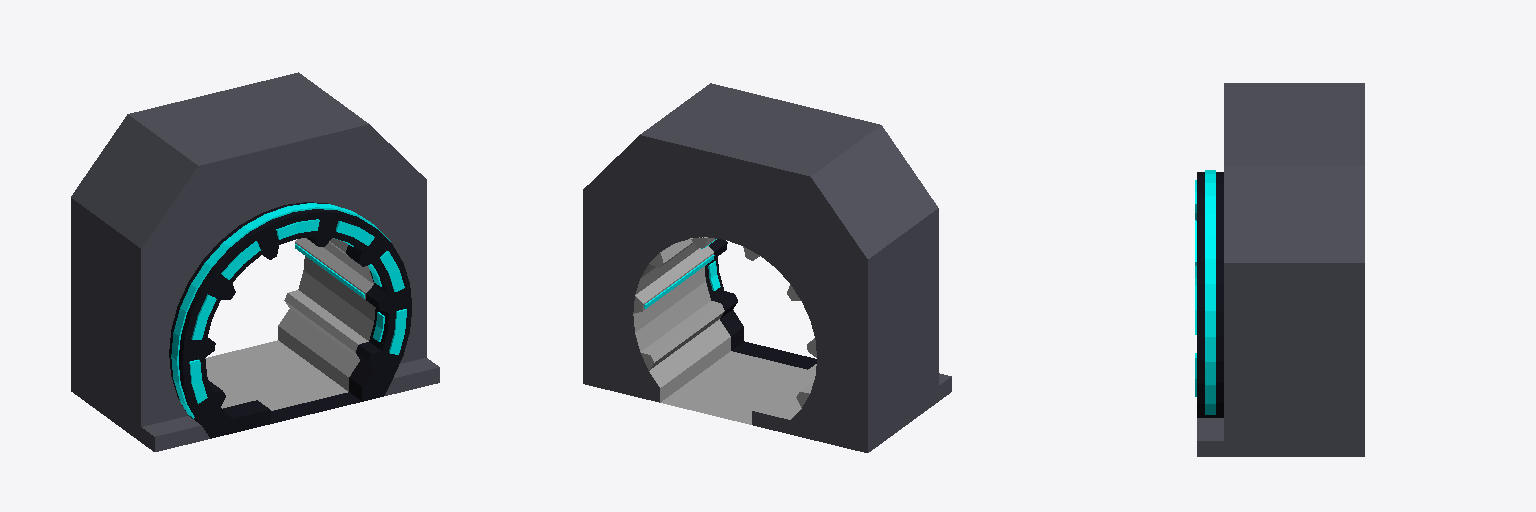
3 renders of one model, left to right at view 1: azimuth 30°, elevation 25°; view 2: azimuth 150°, elevation 25°; view 3: azimuth 270°, elevation 25°, orthographic.
Parts seen in each view (by area): view 1: Cylinder.001; view 2: Cylinder.001; view 3: Cylinder.001.
Boxes of the visible parts, <box> form: Cylinder.001: <box>71,72,439,451</box>; Cylinder.001: <box>583,83,951,452</box>; Cylinder.001: <box>1195,83,1364,456</box>.
Size of the model in its own units: 9.5 by 8.37 by 4.93.
Materials: 4 (1 with a texture image).